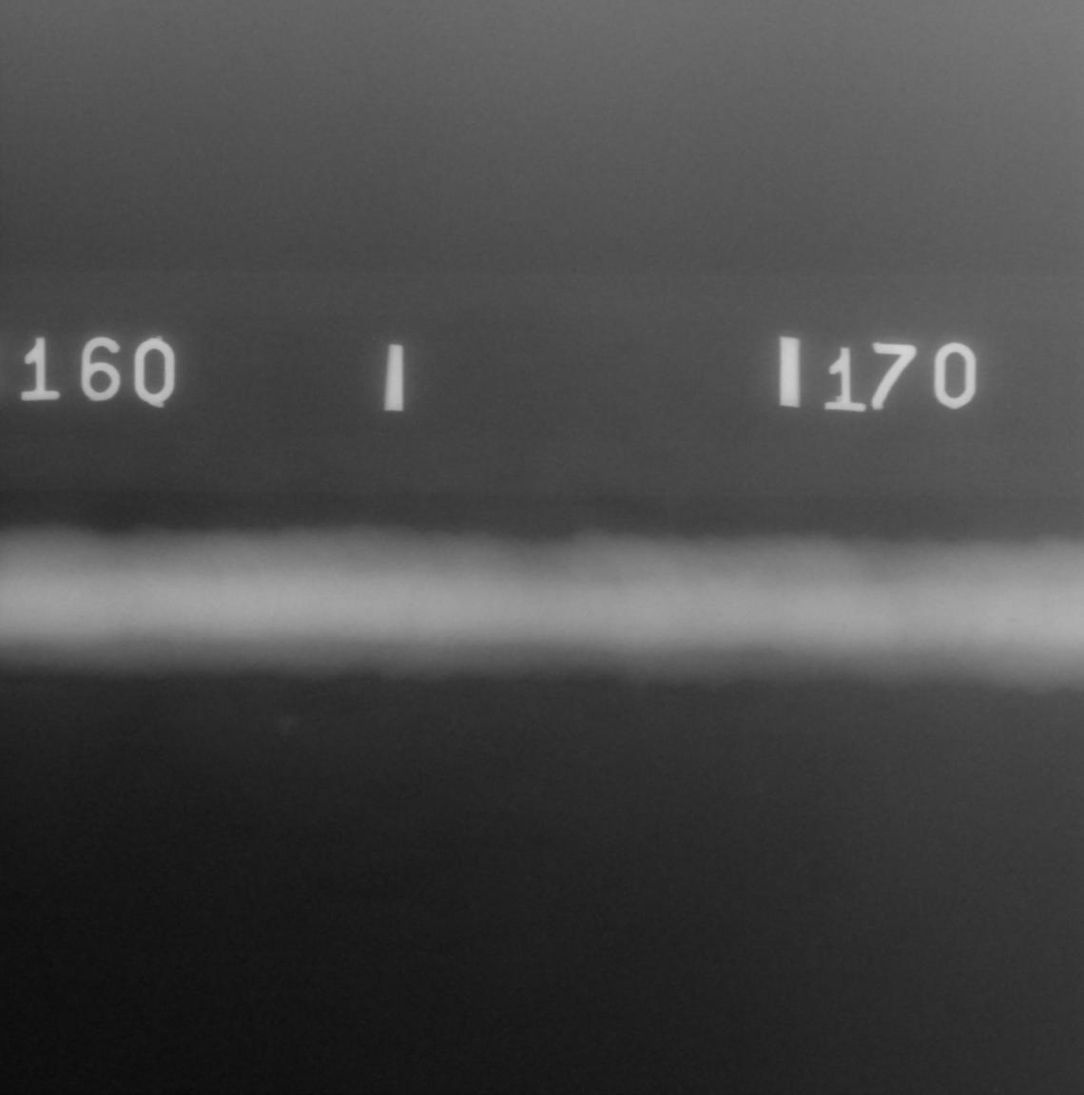Inclusion: (1009, 618, 1017, 623)
Pore/Porosity: (588, 611, 593, 617)
